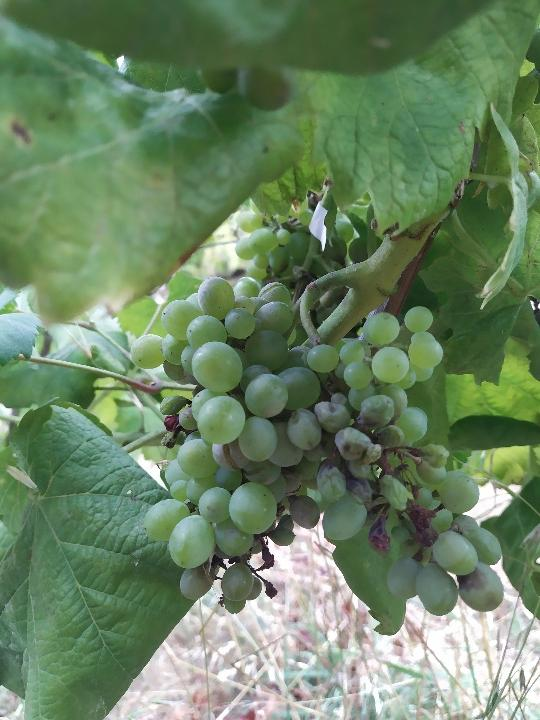grape: (127, 273, 506, 620)
